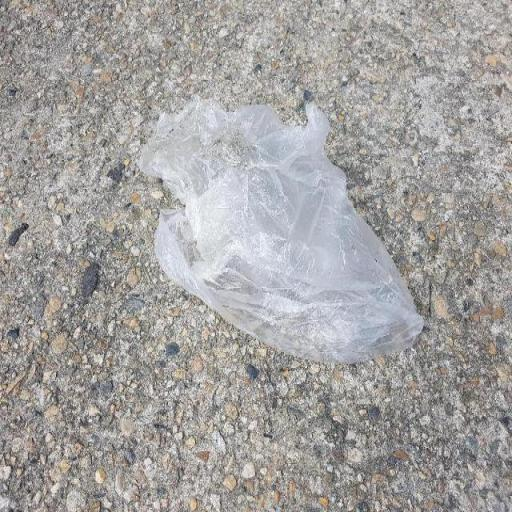plastic-bag: (137, 92, 423, 368)
